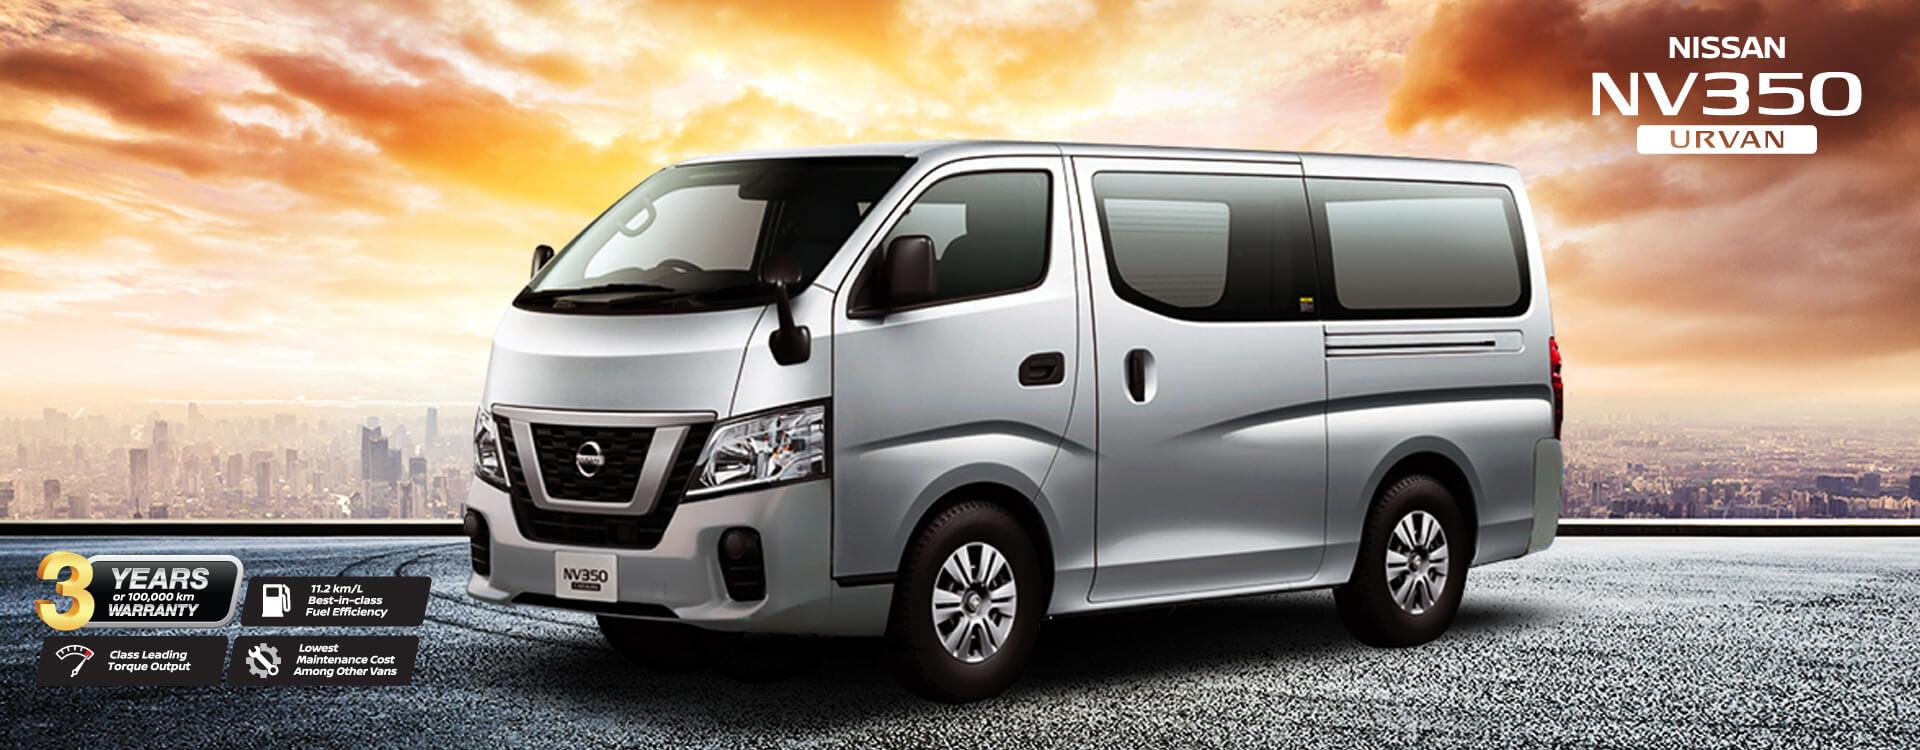van: (467, 138, 1562, 695)
